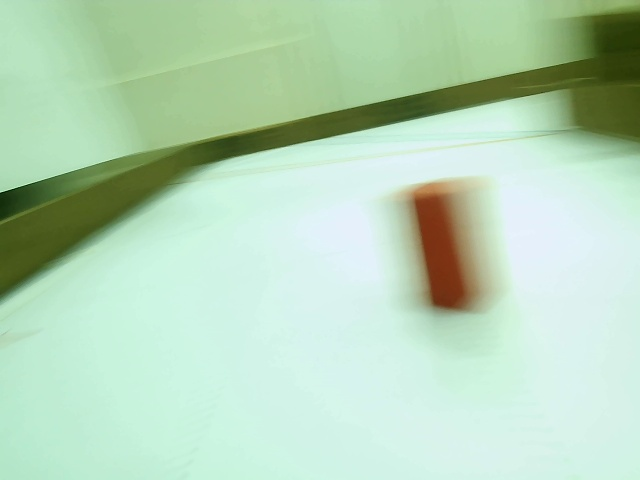red: (407, 183, 482, 311)
